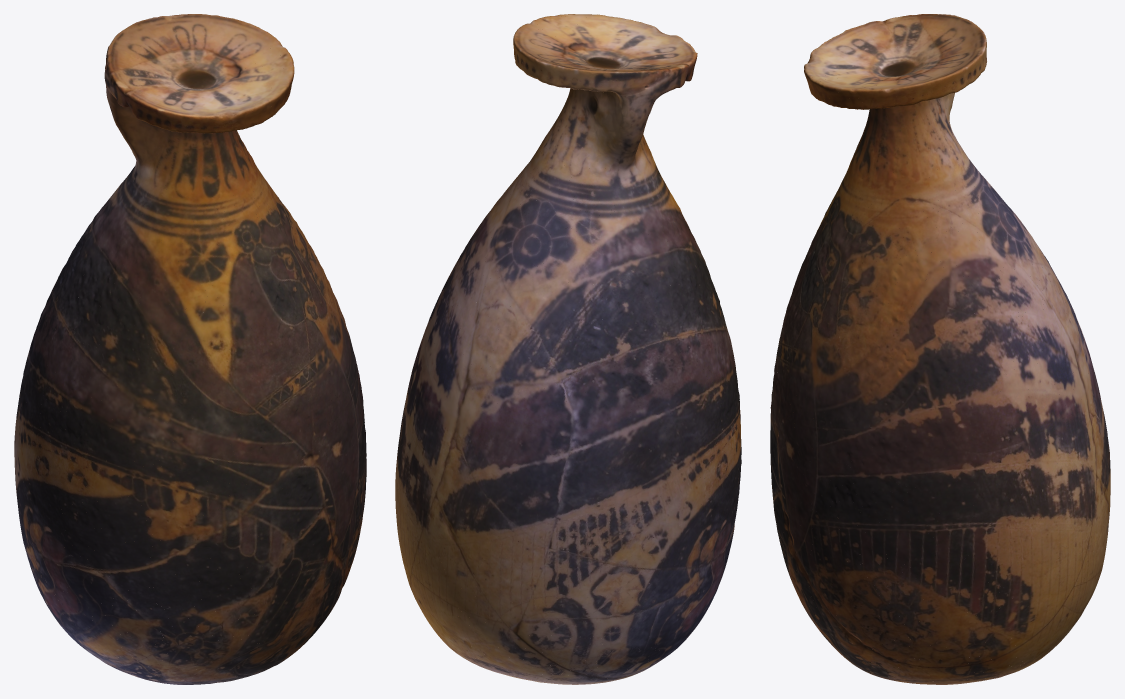
Rendered from cor-alabastron.glb.
3 renders of one model, left to right at view 1: azimuth 30°, elevation 25°; view 2: azimuth 150°, elevation 25°; view 3: azimuth 270°, elevation 25°, orthographic. The views are drawn at different scales.
Visible parts, largest first — view 1: Object_3, Object_6, Object_4, Object_2, Object_8, Object_5, Object_7; view 2: Object_4, Object_5, Object_8, Object_6, Object_2, Object_3, Object_7; view 3: Object_6, Object_5, Object_7, Object_3, Object_2, Object_8, Object_4.
Part boxes in pixels (x1,y1,x2,y2): Object_3: [15, 33, 366, 670]; Object_6: [14, 293, 366, 679]; Object_4: [23, 136, 333, 656]; Object_2: [64, 14, 366, 668]; Object_8: [14, 194, 352, 559]; Object_5: [26, 169, 365, 630]; Object_7: [14, 311, 366, 684]; Object_4: [404, 130, 727, 681]; Object_5: [401, 163, 731, 684]; Object_8: [408, 211, 741, 592]; Object_6: [395, 249, 733, 683]; Object_2: [403, 14, 732, 617]; Object_3: [428, 14, 741, 546]; Object_7: [395, 392, 740, 684]; Object_6: [770, 276, 1110, 678]; Object_5: [773, 179, 1110, 671]; Object_7: [770, 284, 1109, 684]; Object_3: [780, 68, 1073, 684]; Object_2: [804, 14, 1081, 682]; Object_8: [771, 224, 1110, 473]; Object_4: [770, 140, 1108, 653].
Size of the model in its own units: 1.08 by 2.1 by 1.06.
1 material, 1 textured.
